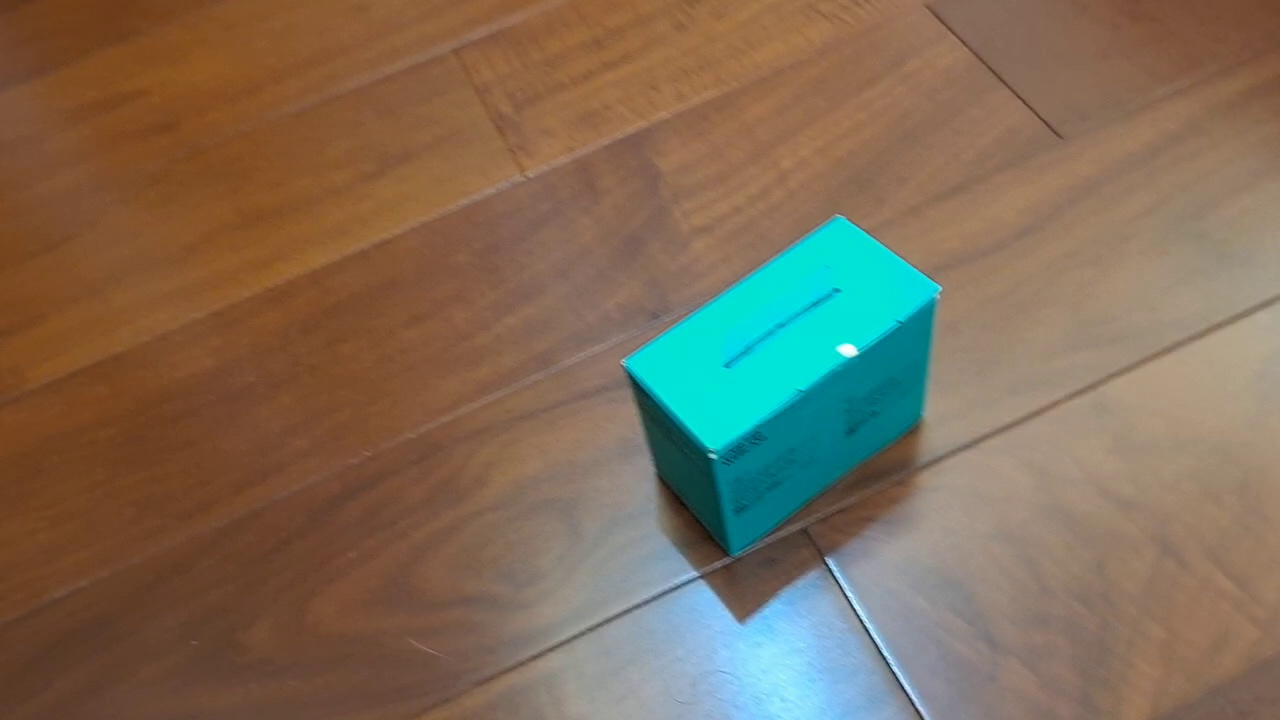webcam: (617, 212, 944, 561)
